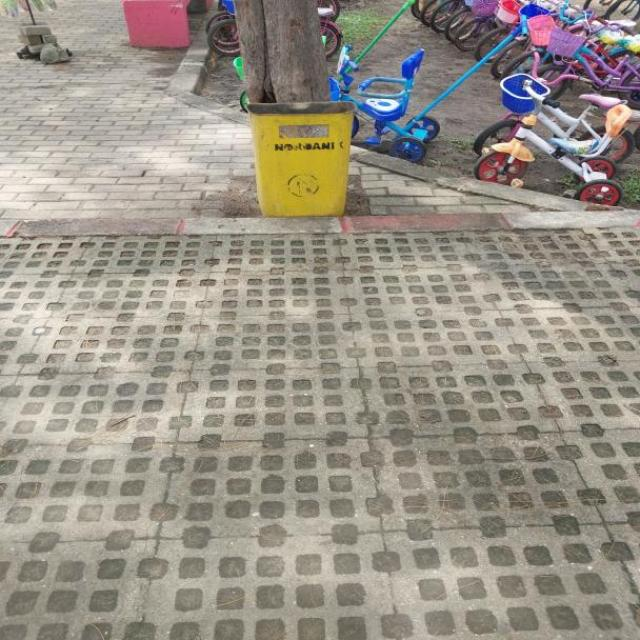dustbin ahead at: (246, 102, 354, 222)
